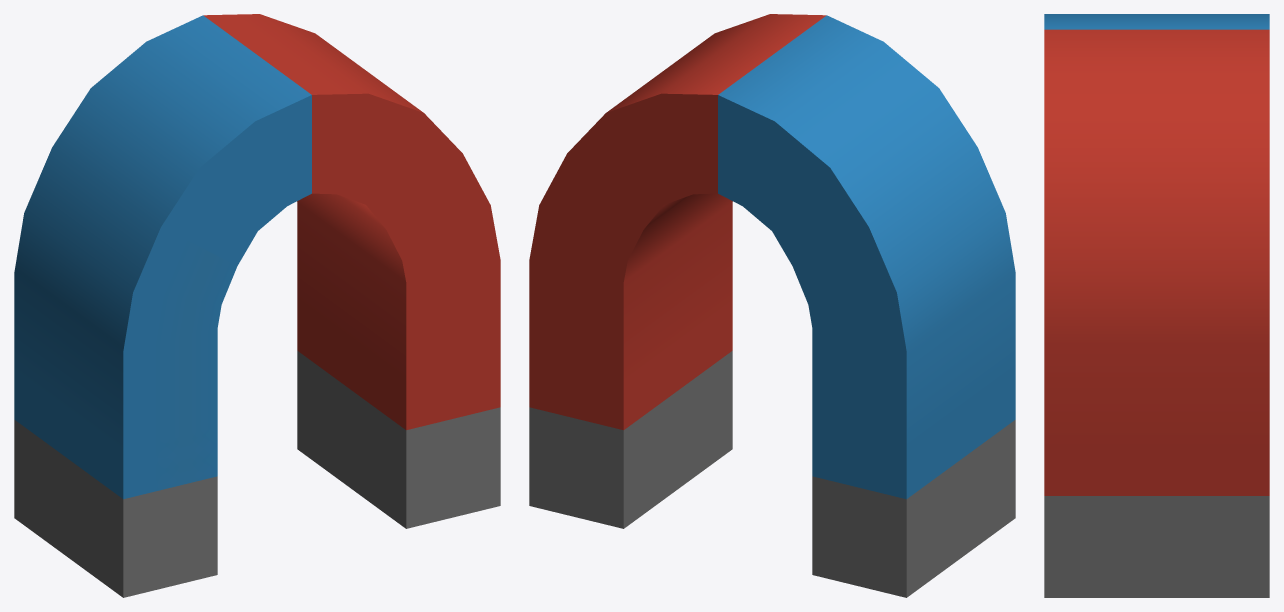
The model's file is magnet.fbx.
The picture shows the model from 3 angles, left to right: view 1: azimuth 30°, elevation 25°; view 2: azimuth 150°, elevation 25°; view 3: azimuth 270°, elevation 25°; orthographic projection. The views are drawn at different scales.
Visible parts, largest first — view 1: Cube; view 2: Cube; view 3: Cube.
Boxes of the visible parts, x1,y1,x2,y2 form: Cube: (14,14,500,597); Cube: (529,14,1015,597); Cube: (1044,14,1269,597).
Size of the model in its own units: 800 by 926 by 400.
3 materials, 3 textured.
